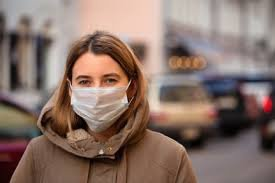mask: (58, 29, 140, 135)
